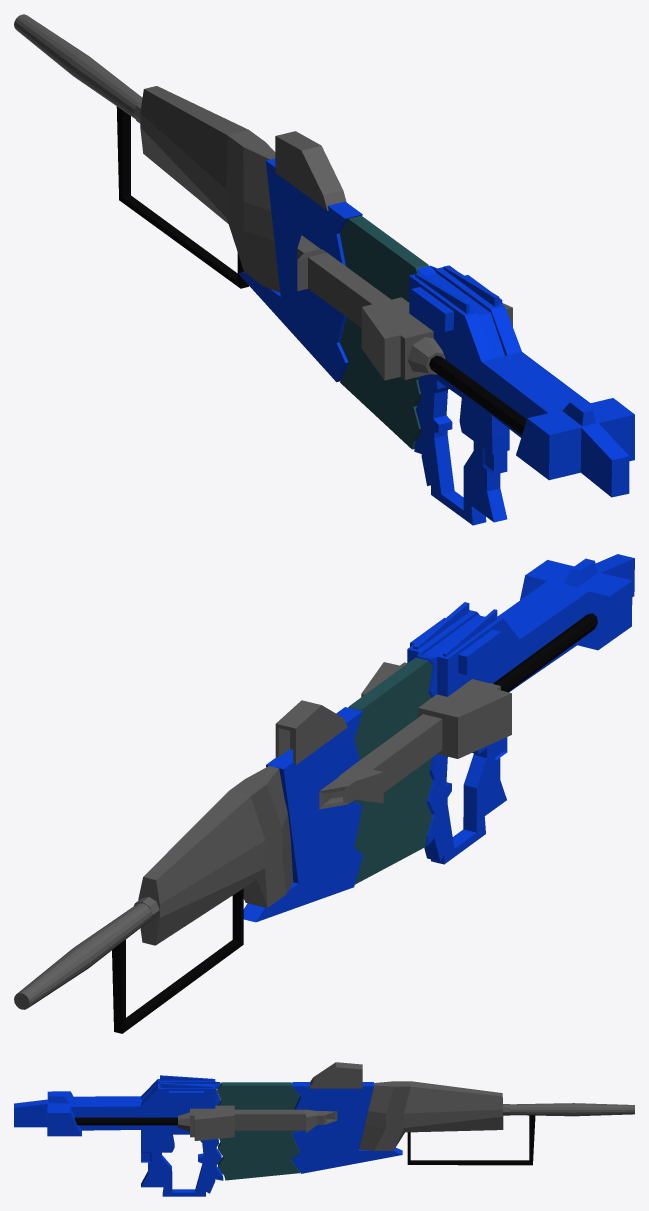
File: RaserRifle.gltf
The picture shows the model from 3 angles, top to bottom: view 1: azimuth 30°, elevation 25°; view 2: azimuth 150°, elevation 25°; view 3: azimuth 270°, elevation 25°; orthographic projection. The views are drawn at different scales.
Parts seen in each view (by area): view 1: Cube, 円柱, 立方体.002, 立方体, 円柱.002, 立方体.001, 立方体.003, 円柱.001; view 2: Cube, 円柱, 立方体.002, 円柱.002, 立方体, 立方体.003, 立方体.001, 円柱.001; view 3: Cube, 円柱, 立方体, 立方体.002, 円柱.002, 立方体.001, 立方体.003, 円柱.001.
Boxes of the visible parts, bbox=[...] form: Cube: bbox=[409, 265, 634, 525]; 円柱: bbox=[14, 14, 280, 292]; 立方体.002: bbox=[238, 158, 362, 382]; 立方体: bbox=[340, 215, 428, 449]; 円柱.002: bbox=[297, 235, 512, 380]; 立方体.001: bbox=[275, 131, 346, 210]; 立方体.003: bbox=[116, 106, 248, 288]; 円柱.001: bbox=[429, 355, 526, 435]; Cube: bbox=[407, 554, 634, 864]; 円柱: bbox=[14, 766, 293, 1009]; 立方体.002: bbox=[243, 707, 362, 922]; 円柱.002: bbox=[319, 662, 511, 809]; 立方体: bbox=[348, 657, 432, 884]; 立方体.003: bbox=[112, 888, 243, 1033]; 立方体.001: bbox=[275, 700, 347, 765]; 円柱.001: bbox=[493, 613, 597, 692]; Cube: bbox=[14, 1075, 223, 1196]; 円柱: bbox=[359, 1081, 634, 1150]; 立方体: bbox=[217, 1082, 299, 1180]; 立方体.002: bbox=[291, 1082, 402, 1173]; 円柱.002: bbox=[178, 1090, 337, 1140]; 立方体.001: bbox=[309, 1062, 362, 1088]; 立方体.003: bbox=[407, 1115, 535, 1165]; 円柱.001: bbox=[74, 1117, 177, 1125].
Size of the model in its own units: 1.82 by 3.43 by 14.82.
